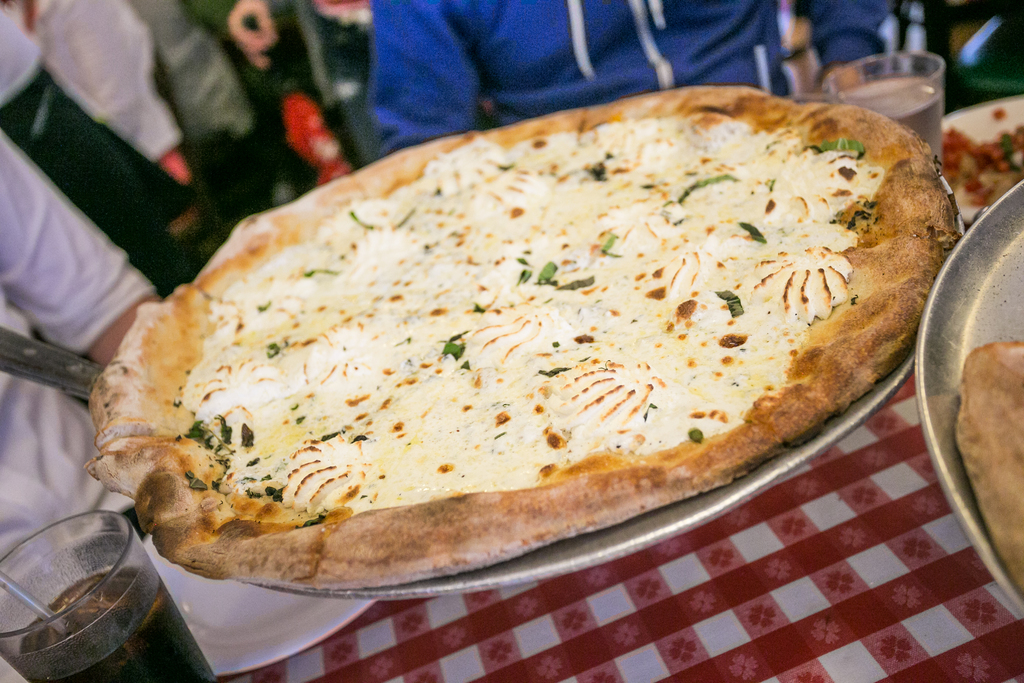Pizza: (97, 89, 962, 598)
